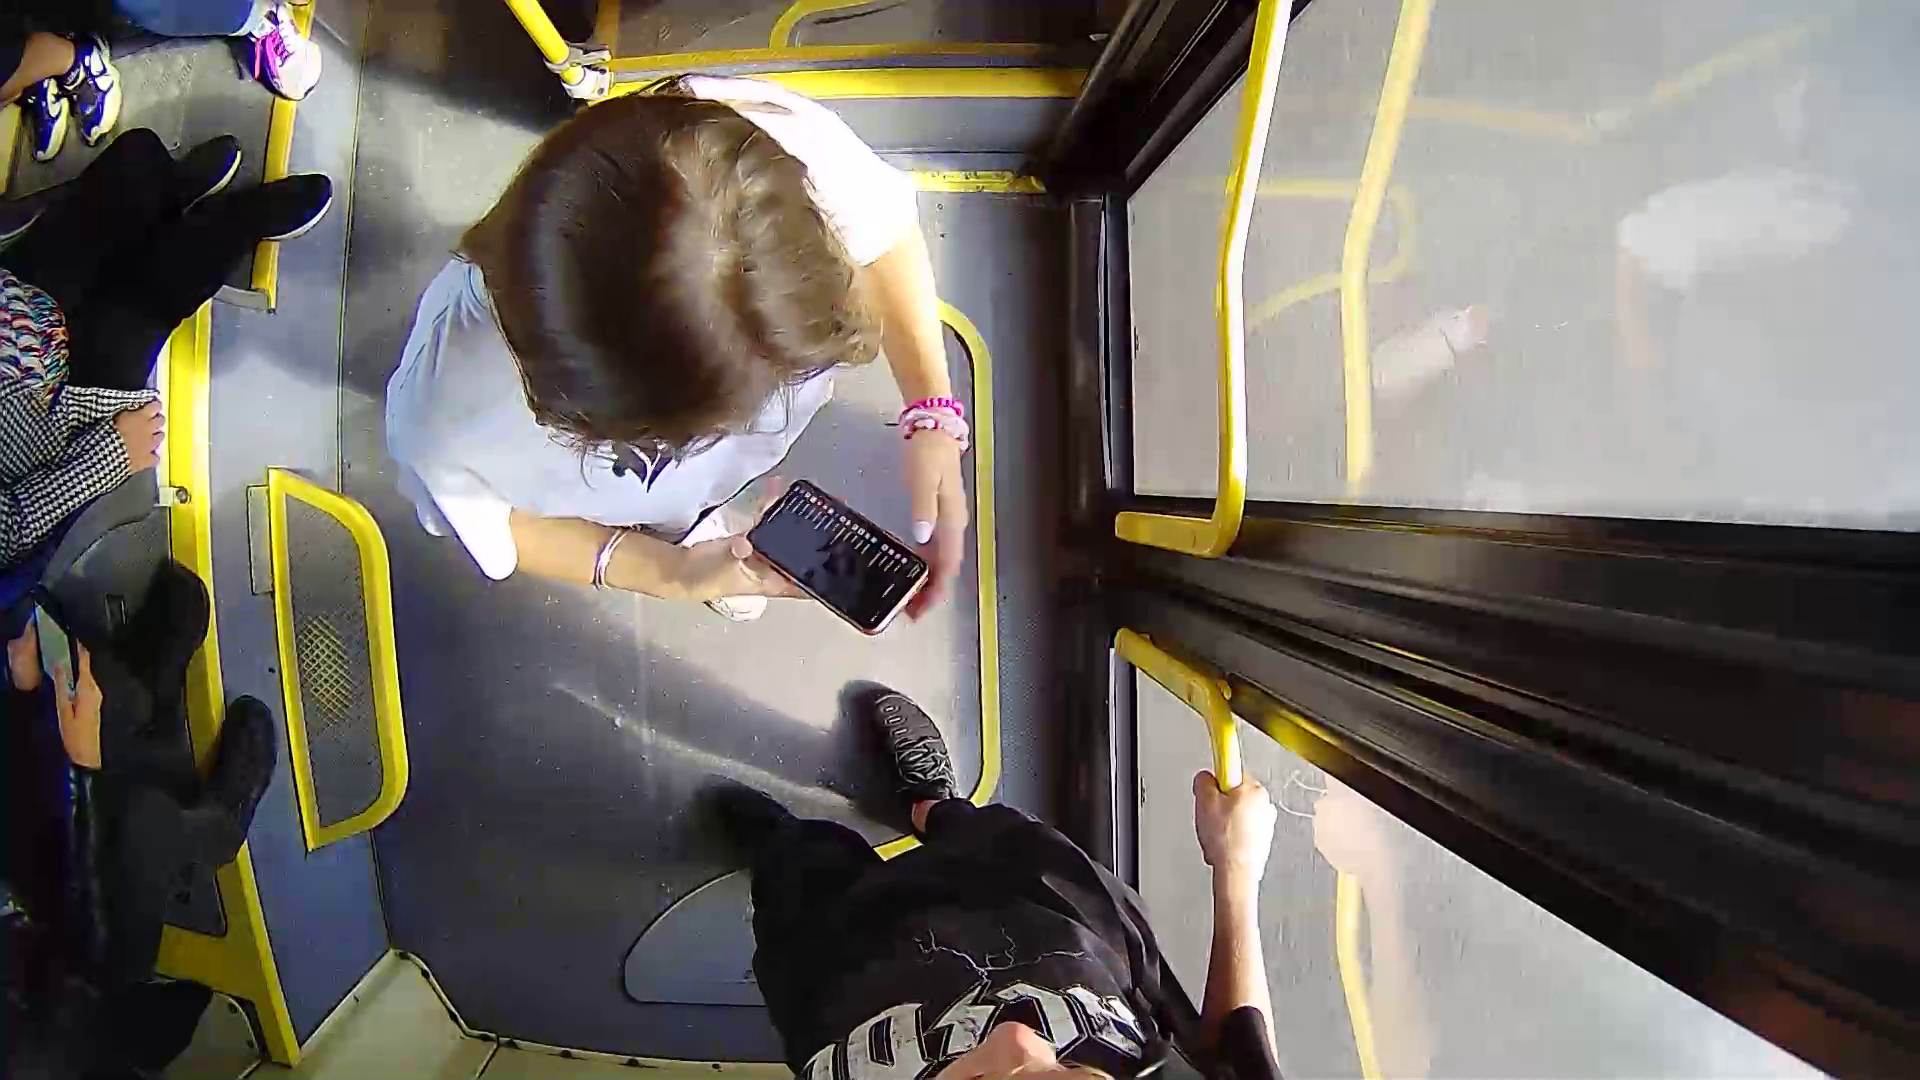person: (361, 87, 1096, 674)
